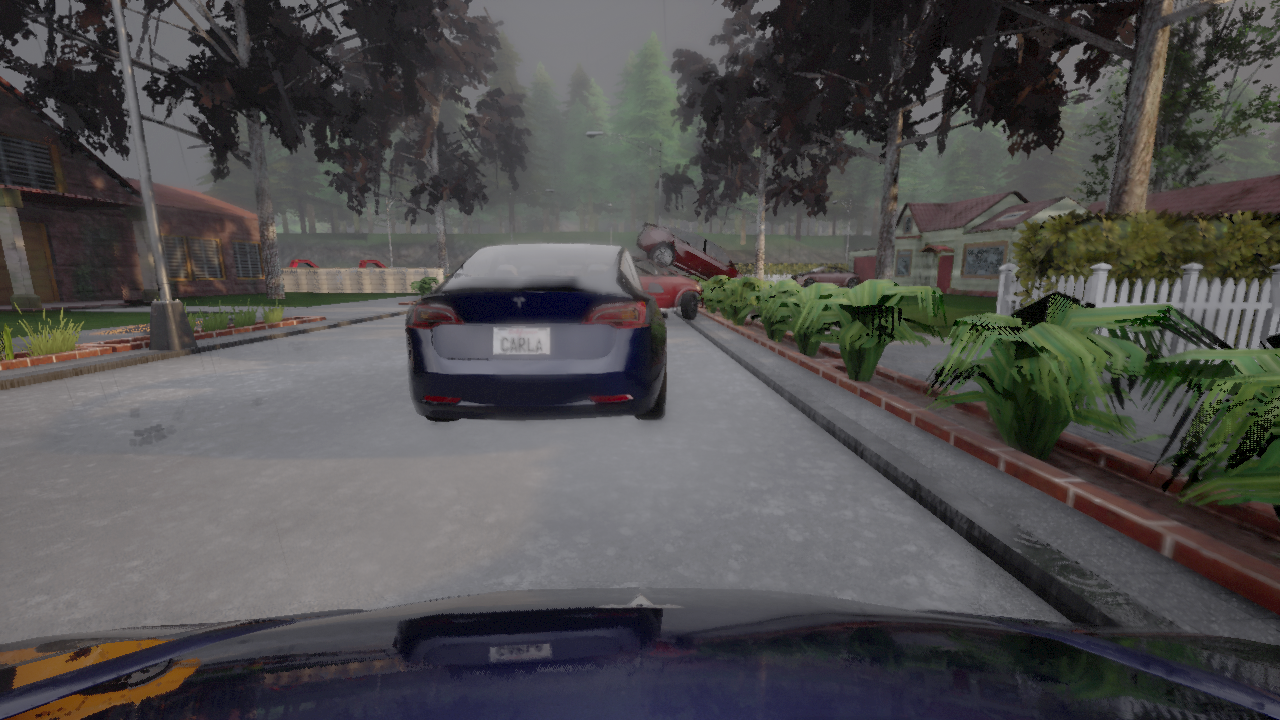cyclist: (0, 588, 1279, 719), (406, 243, 666, 421), (635, 222, 761, 302), (632, 257, 703, 319), (789, 266, 860, 288)
